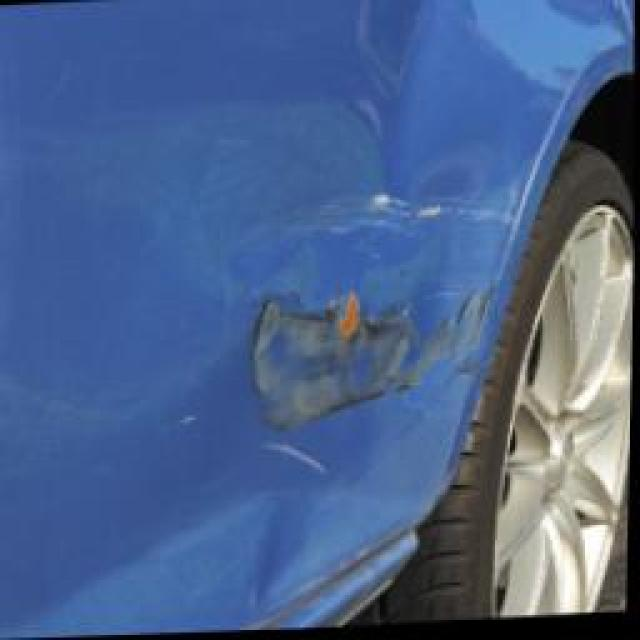Door: (212, 112, 514, 509)
